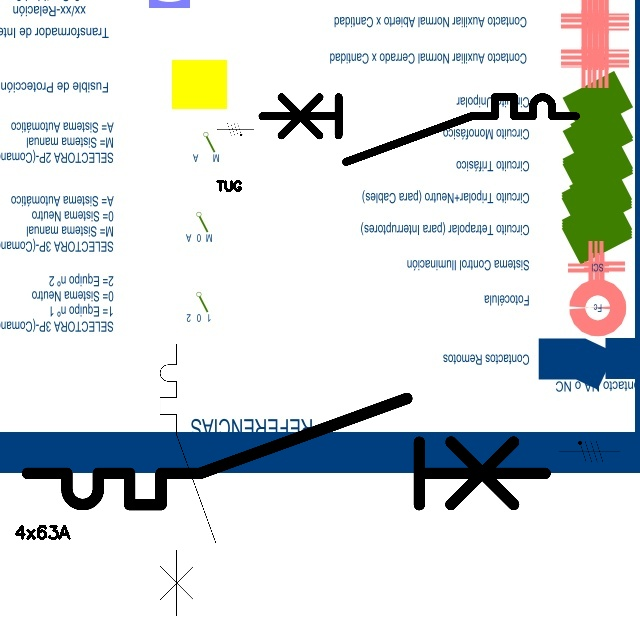interruptor_termomagnetico: (14, 385, 558, 518), (254, 89, 584, 169), (153, 337, 223, 623)
